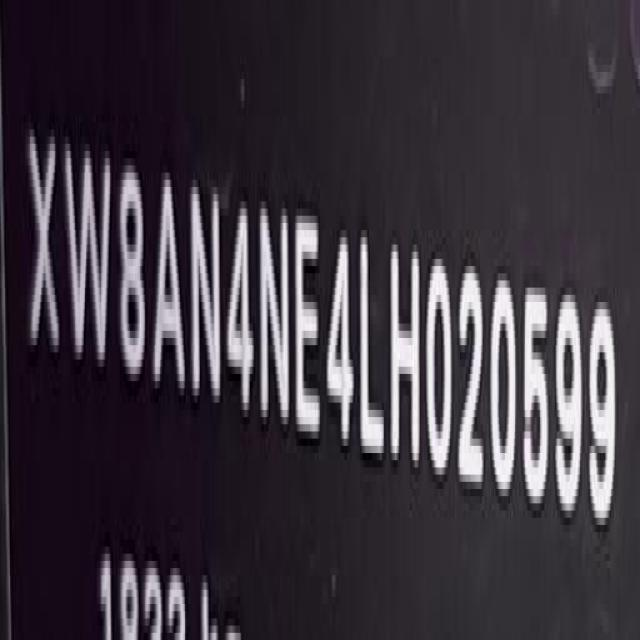0: (491, 268, 520, 502), (426, 248, 454, 489)
2: (456, 261, 484, 502)
4: (327, 223, 355, 467), (226, 186, 254, 427)
5: (522, 276, 552, 511)
8: (120, 153, 147, 390)
9: (590, 305, 620, 531), (554, 290, 582, 522)
A: (150, 164, 183, 406)
E: (296, 211, 324, 450)
H: (393, 234, 424, 479)
L: (359, 232, 388, 470)
N: (256, 196, 293, 440), (192, 174, 222, 416)
W: (63, 139, 115, 378)
X: (26, 120, 59, 370)
